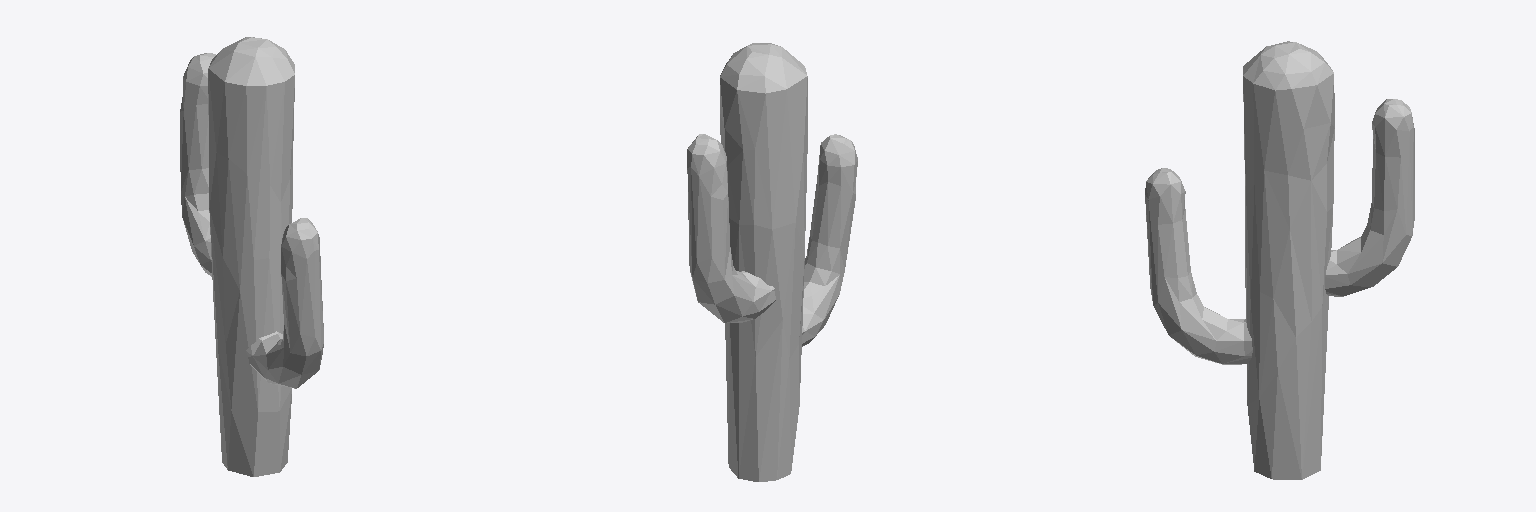
The model's file is Cactus02_new.obj.
The picture shows the model from 3 angles: view 1: azimuth 30°, elevation 25°; view 2: azimuth 150°, elevation 25°; view 3: azimuth 270°, elevation 25°; orthographic projection.
Visible parts, largest first — view 1: Cylinder, Cylinder.001_Cylinder.004, Cylinder.002; view 2: Cylinder, Cylinder.002, Cylinder.001_Cylinder.004; view 3: Cylinder, Cylinder.001_Cylinder.004, Cylinder.002.
Part boxes in pixels (x1,y1,x2,y2): Cylinder: (208, 37, 294, 476); Cylinder.001_Cylinder.004: (246, 218, 323, 388); Cylinder.002: (180, 53, 215, 276); Cylinder: (720, 43, 807, 481); Cylinder.002: (687, 134, 775, 322); Cylinder.001_Cylinder.004: (802, 134, 857, 346); Cylinder: (1243, 41, 1334, 479); Cylinder.001_Cylinder.004: (1145, 168, 1252, 364); Cylinder.002: (1325, 99, 1414, 296).
Bounding box in the file's own units: 0.3673 × 1.97 × 1.15.